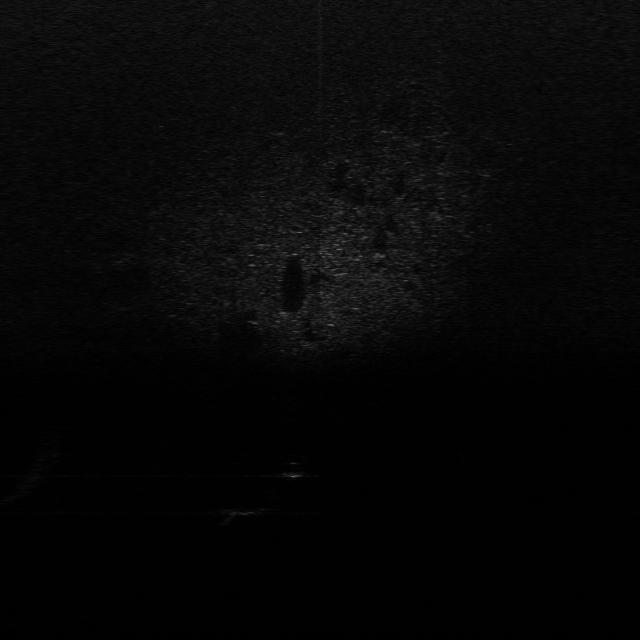ball: (280, 460, 310, 481)
square cage: (220, 496, 276, 524)
